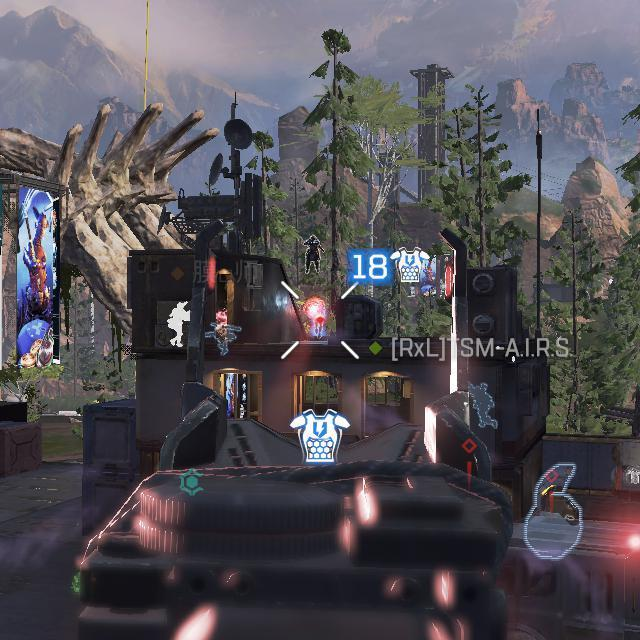avatar: (303, 233, 322, 275)
object: (302, 296, 326, 322)
